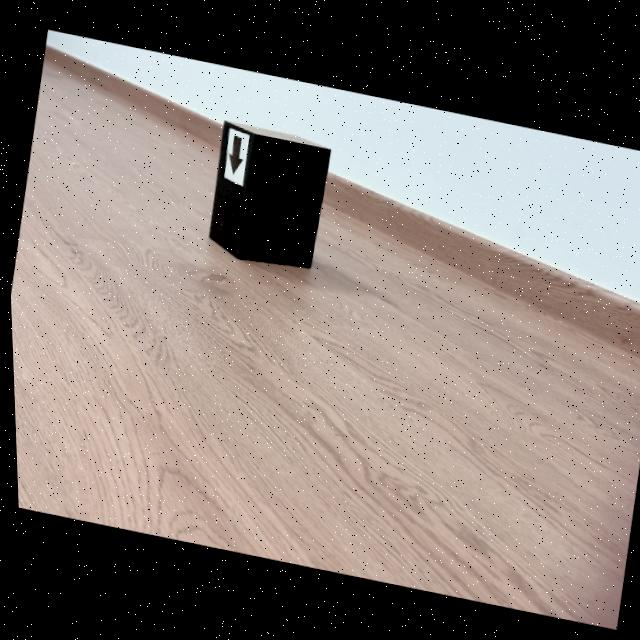DOWN: (227, 134, 242, 175)
